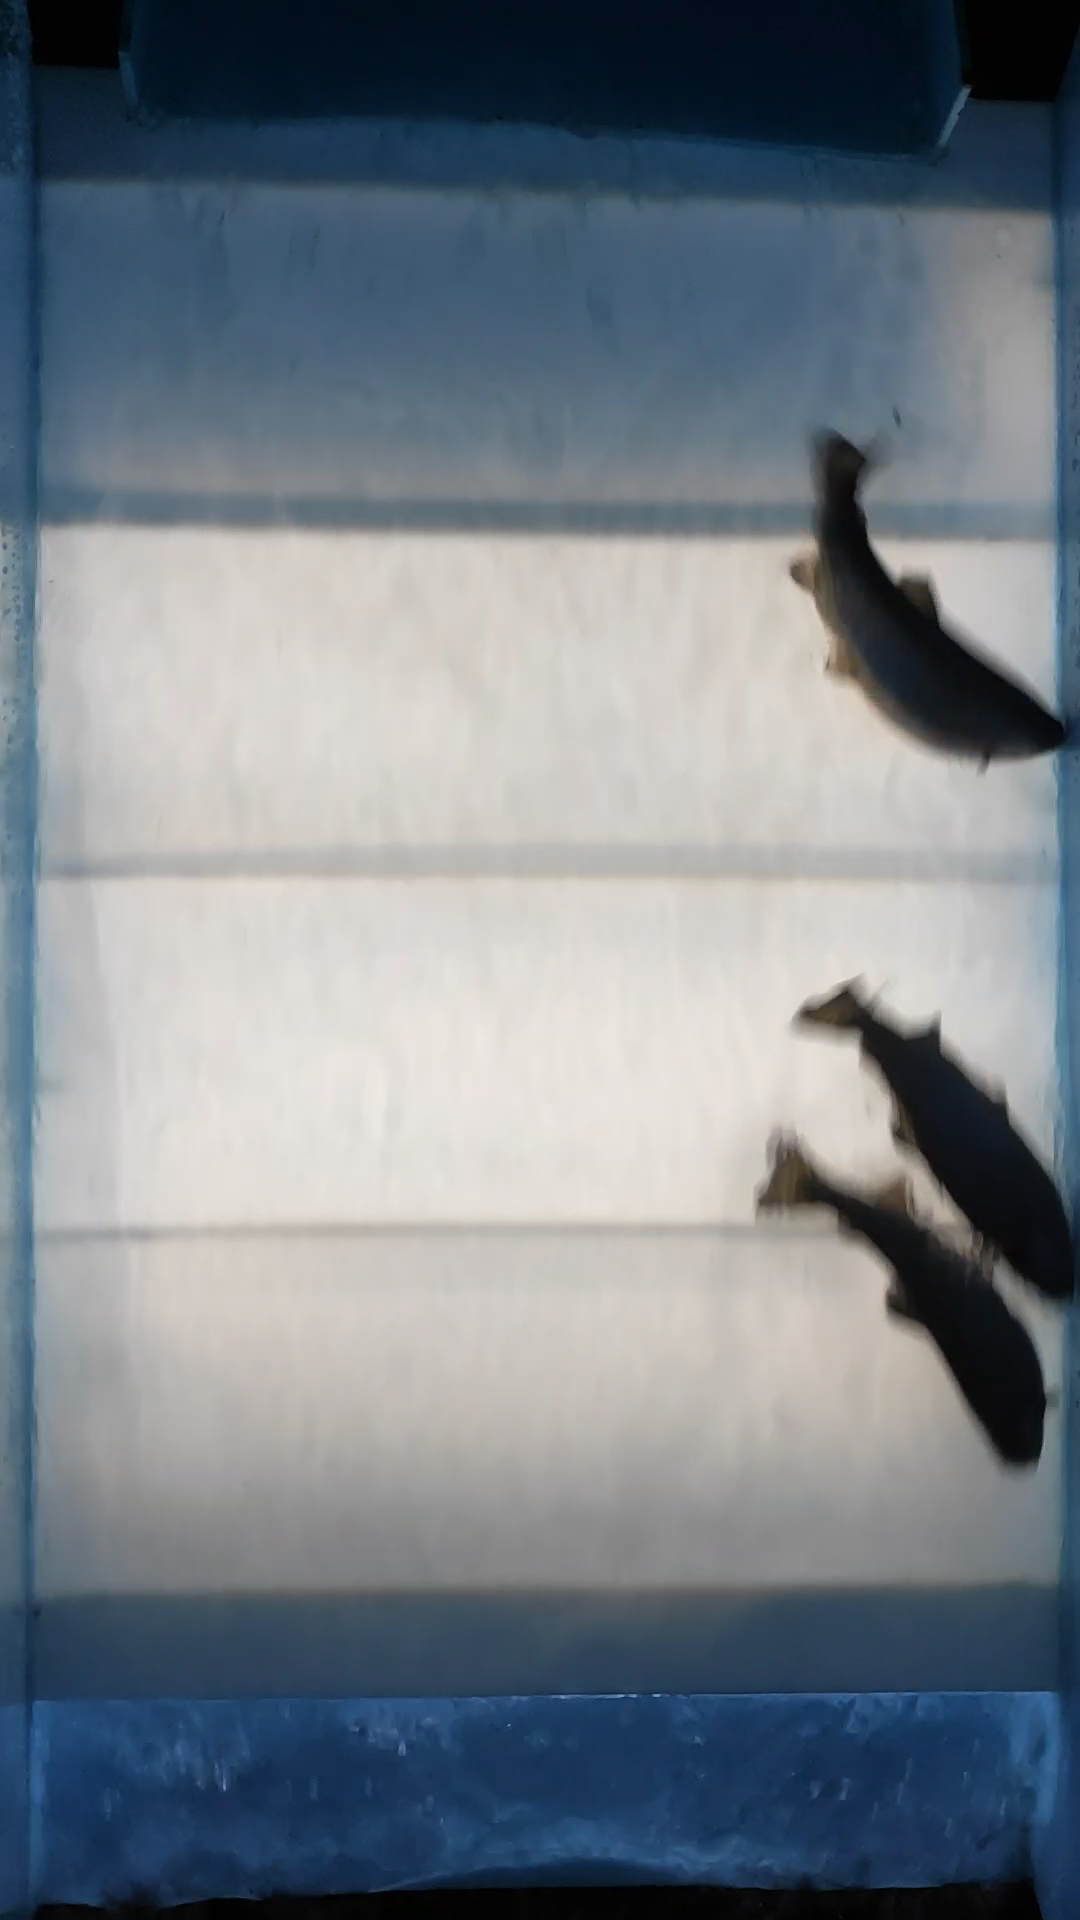fish: (748, 1121, 1044, 1477), (778, 425, 1075, 774), (789, 975, 1080, 1317)
